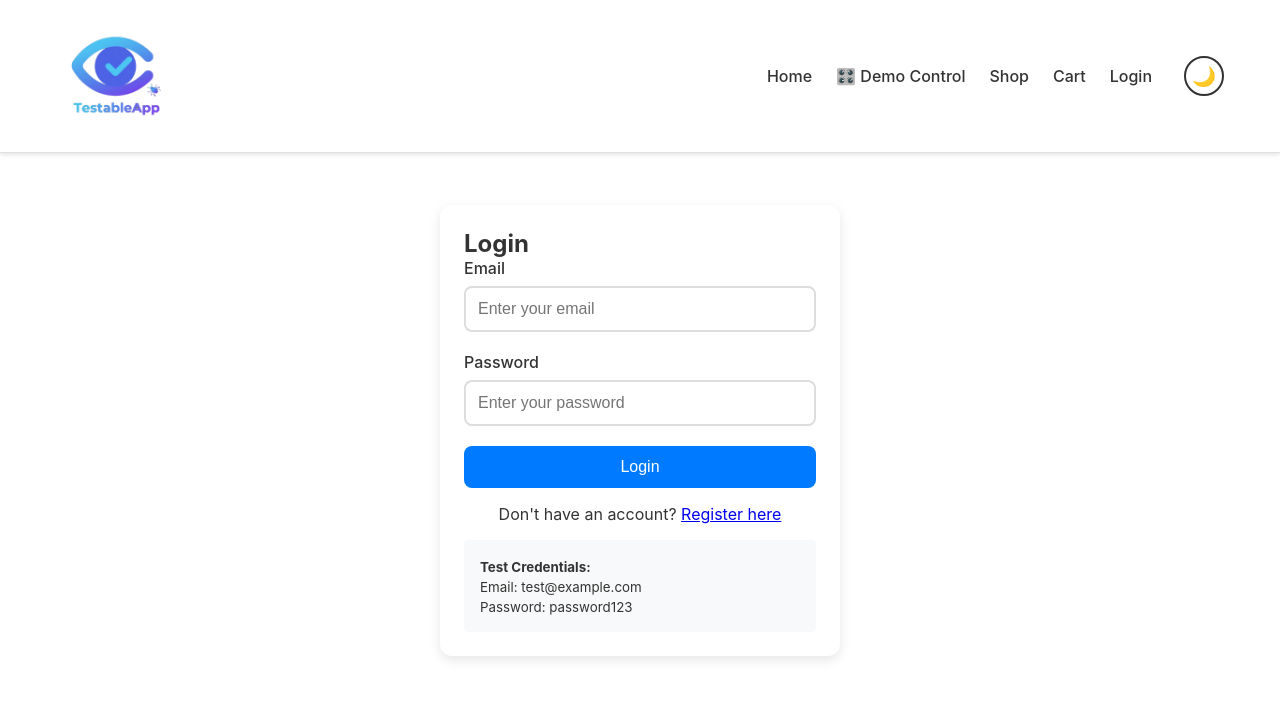
Authentication Flow › Login Page › should show validation error for short password
This screenshot has width=1280, height=720.
Type "test@example.com" into the field with test id "email-input".
click(640, 309); type("test@example.com")  # box x1=464 y1=286 x2=816 y2=332
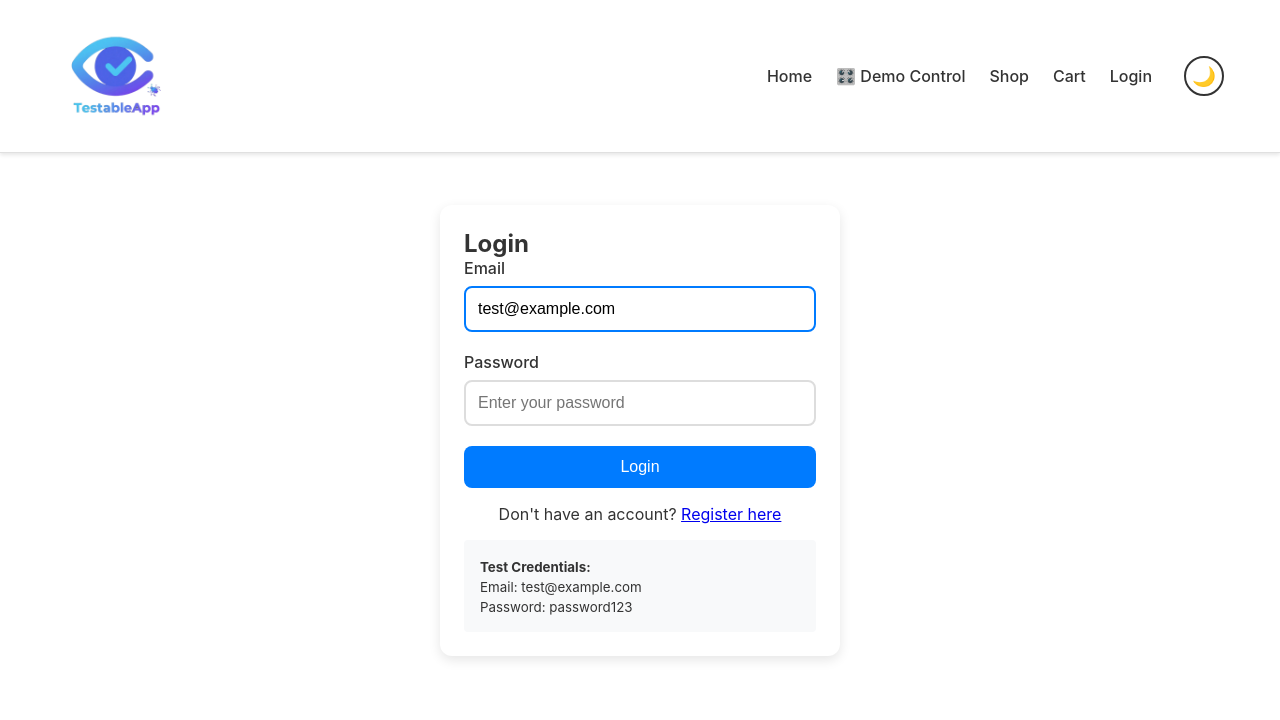
Type "123" into the password field with test id "password-input".
click(640, 403); type("123")  # box x1=464 y1=380 x2=816 y2=426
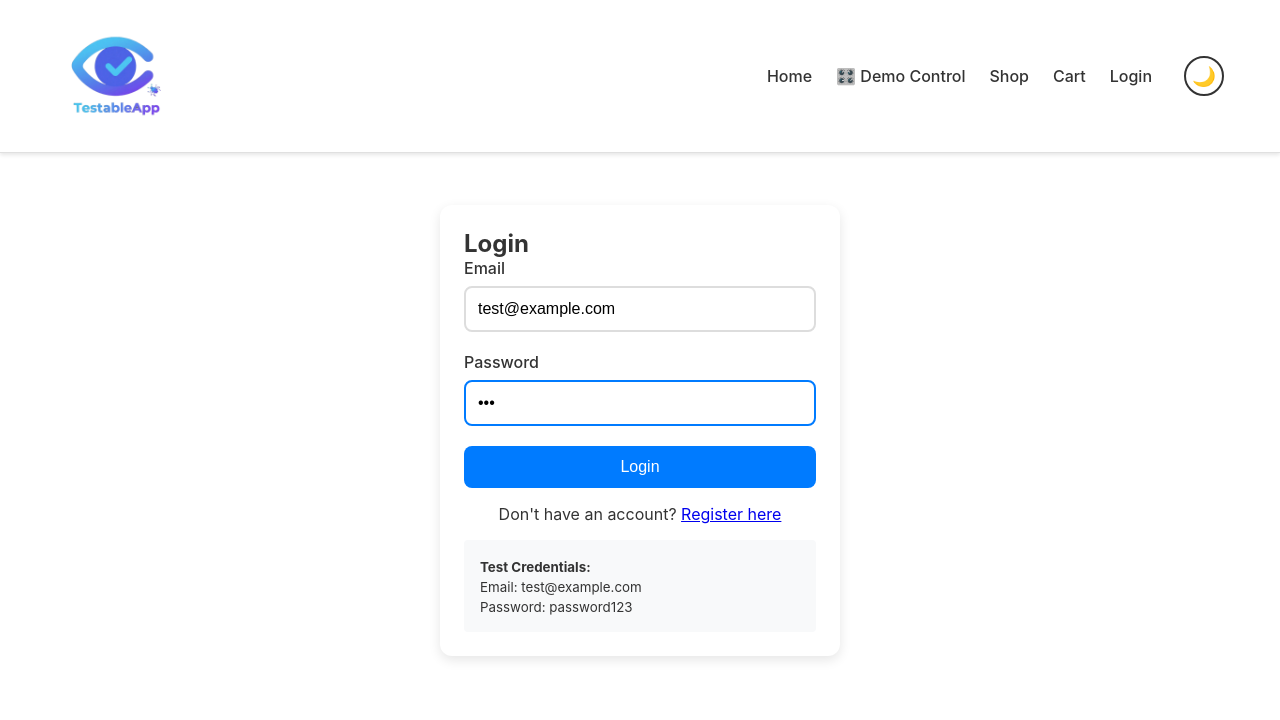
Click the button with test id "login-submit".
click(640, 467)  # box x1=464 y1=446 x2=816 y2=488
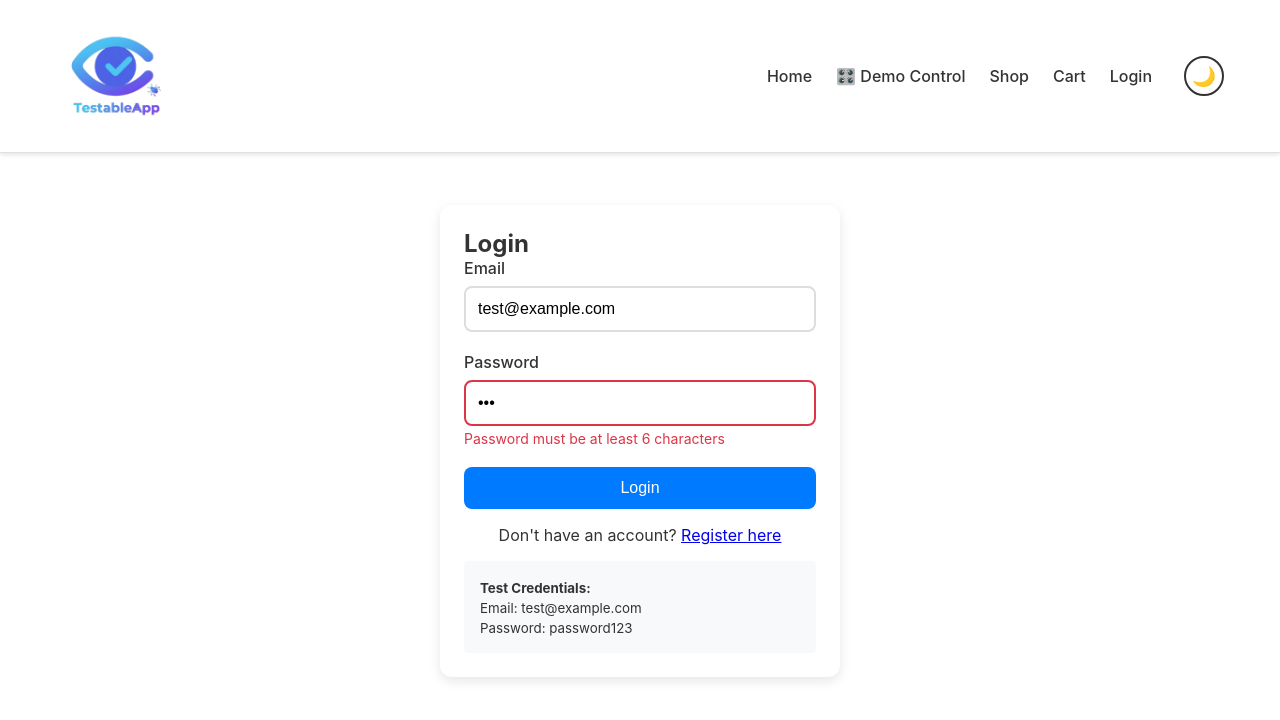
Expected: the text with test id "password-error" reads "Password must be at least 6 characters", x1=464 y1=430 x2=725 y2=447
